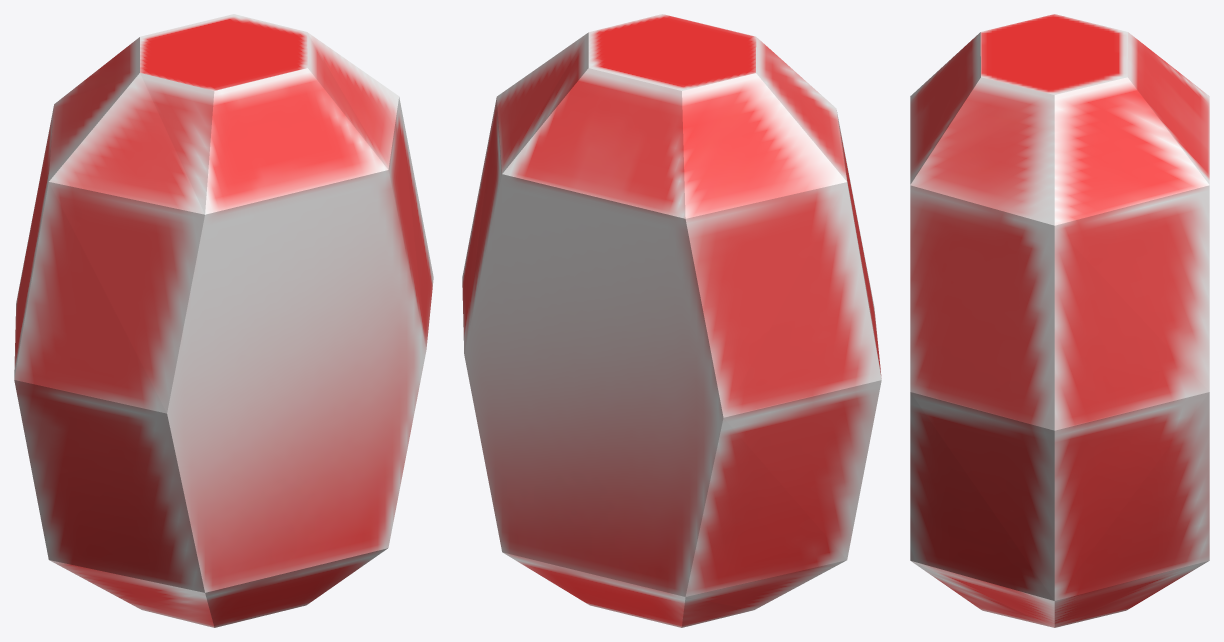
The model's file is item_007.fbx.
3 renders of one model, left to right at view 1: azimuth 30°, elevation 25°; view 2: azimuth 150°, elevation 25°; view 3: azimuth 270°, elevation 25°, orthographic.
Visible parts, largest first — view 1: item007_red; view 2: item007_red; view 3: item007_red.
Part boxes in pixels (x1,y1,x2,y2): item007_red: (14, 14, 433, 627); item007_red: (462, 14, 881, 627); item007_red: (910, 14, 1209, 627).
Bounding box in the file's own units: 0.2104 × 0.2577 × 0.1311.
